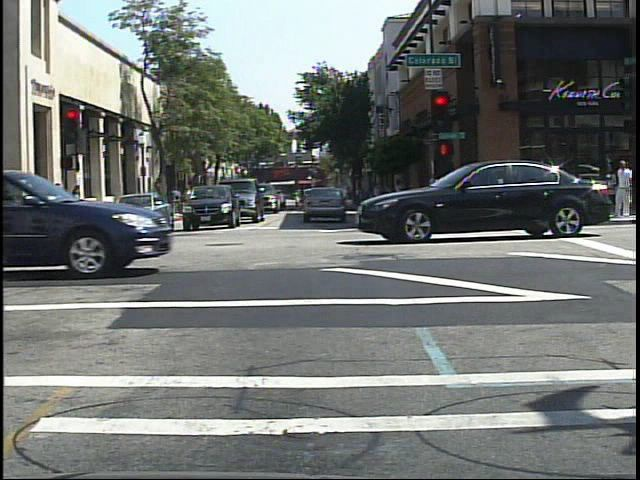person: (612, 156, 638, 221), (171, 183, 184, 216)
